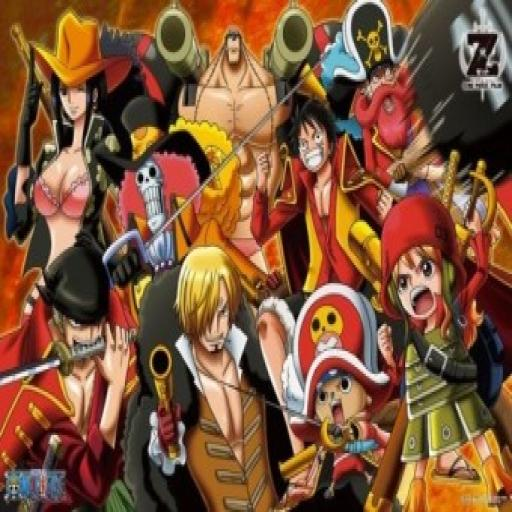Luffy: (284, 102, 346, 186)
Nami: (372, 190, 467, 332)
NicoRobin: (45, 18, 108, 147)
Zoro: (33, 242, 121, 382)
sanji: (170, 249, 246, 365)
